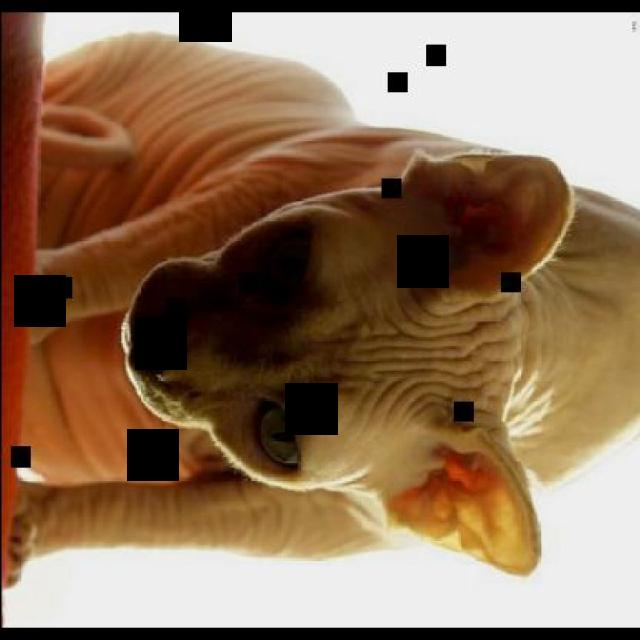unauthorized: (3, 28, 639, 586)
